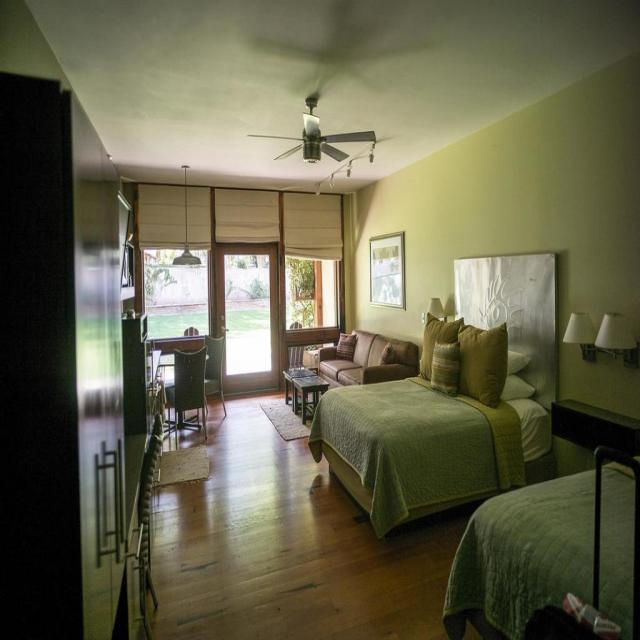Bulb: (244, 94, 378, 164)
